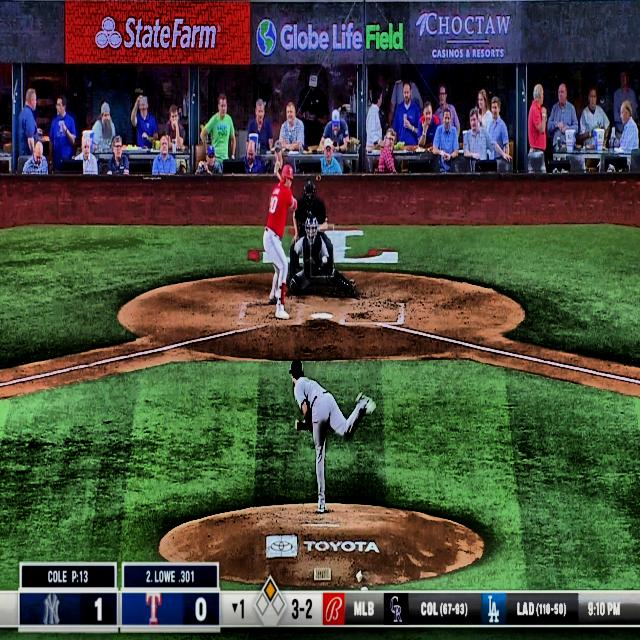baseball: (322, 256, 328, 264)
